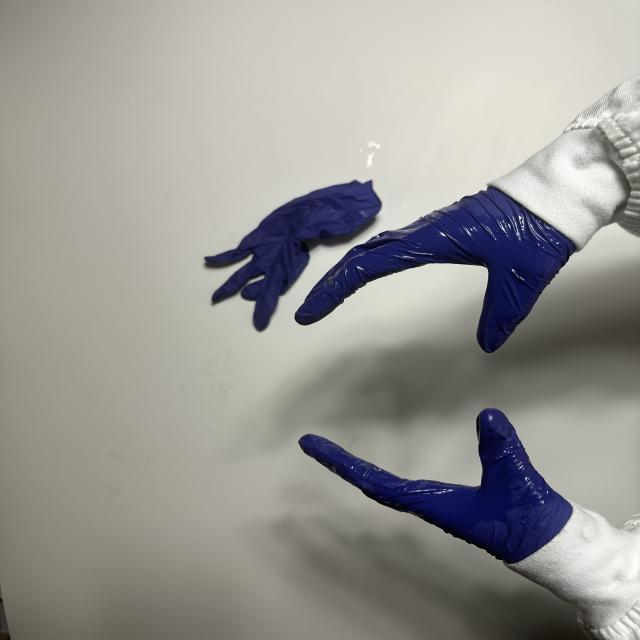gloves_contaminated: (295, 188, 574, 353), (299, 409, 572, 563)
